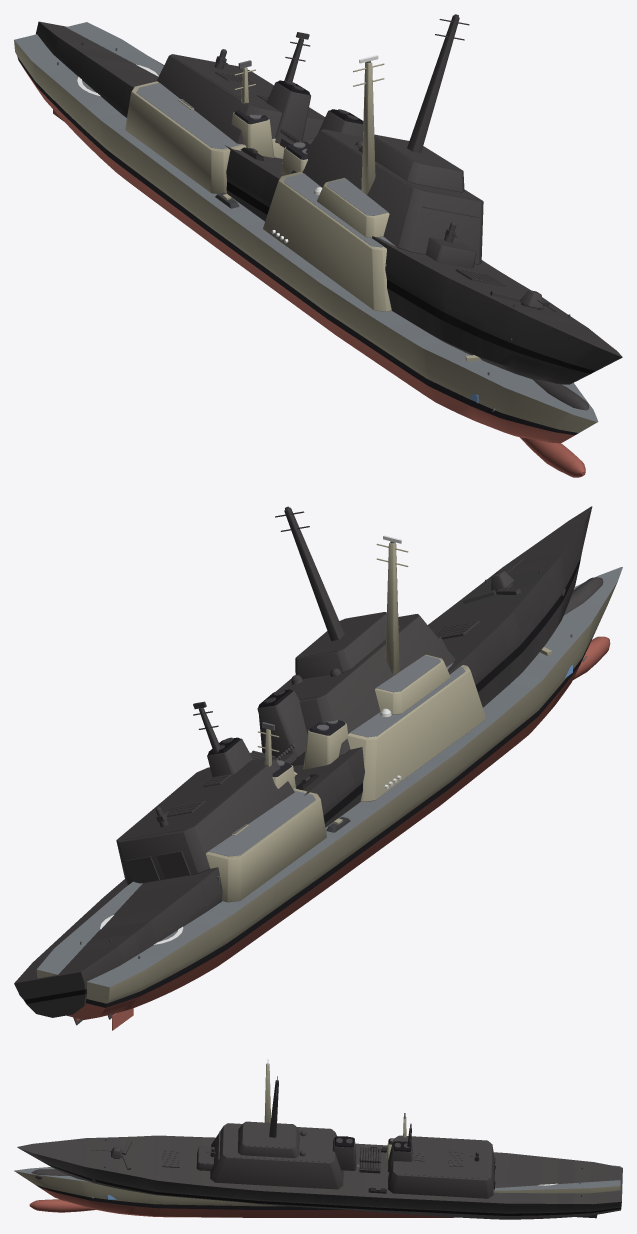
Rendered from destroyer__jeongjo_the_great_class.glb.
3 views of the same model, one above another, from view 1: azimuth 30°, elevation 25°; view 2: azimuth 150°, elevation 25°; view 3: azimuth 270°, elevation 25° (orthographic). The views are drawn at different scales.
Parts seen in each view (by area): view 1: Hull_Mesh, Wreck; view 2: Wreck, Hull_Mesh; view 3: Wreck, Hull_Mesh.
Boxes of the visible parts, x1,y1,x2,y2 form: Hull_Mesh: (14,22,598,477); Wreck: (36,14,622,410); Wreck: (14,506,603,1025); Hull_Mesh: (36,542,622,1030); Wreck: (17,1076,622,1219); Hull_Mesh: (14,1064,620,1217).
Size of what is drawn, in the model's own units: 30.82 by 51.26 by 178.
